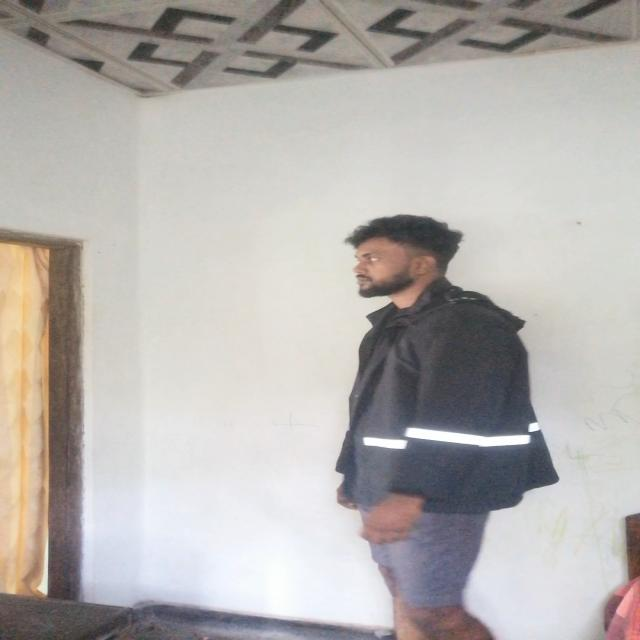Jacket_Wearer: (326, 291, 571, 516)
